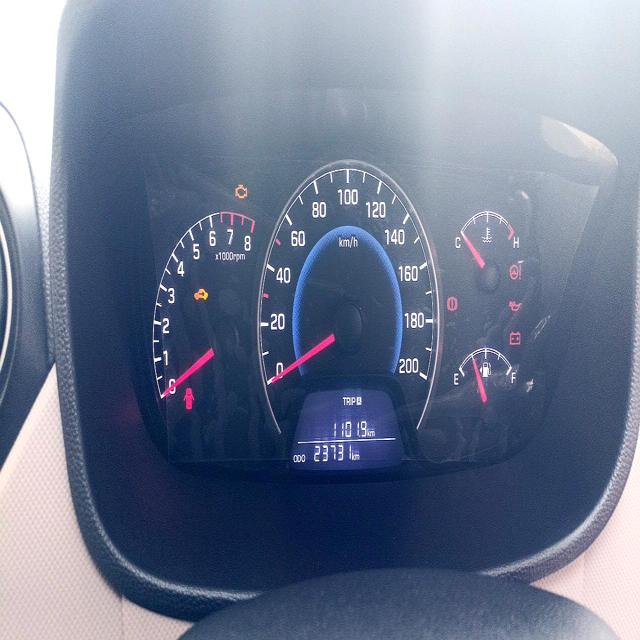odometer: (311, 440, 353, 467)
